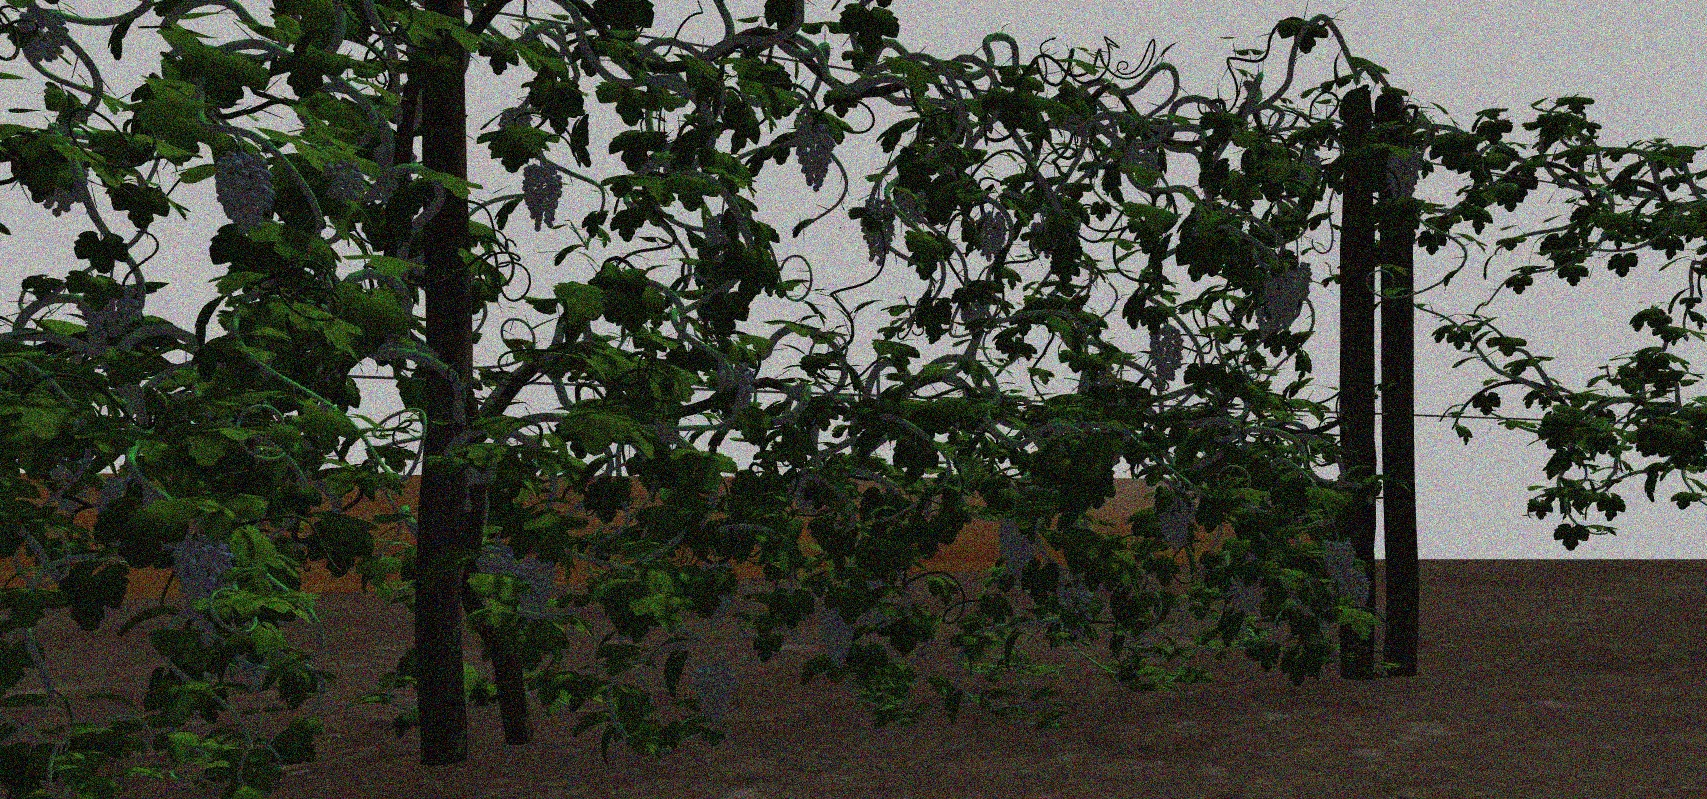grape: (172, 536, 233, 646), (214, 152, 275, 235), (16, 7, 69, 63), (795, 120, 836, 190), (521, 162, 562, 232), (515, 557, 557, 623), (693, 657, 736, 721), (818, 604, 855, 669), (859, 199, 895, 266), (998, 520, 1032, 583), (1266, 269, 1301, 330), (1150, 324, 1186, 381), (716, 362, 756, 413), (1385, 147, 1422, 199), (1157, 497, 1191, 552), (105, 287, 139, 337), (476, 541, 516, 580), (322, 160, 364, 198), (977, 211, 1006, 260), (1324, 539, 1355, 579), (1227, 580, 1258, 618), (896, 186, 926, 224), (1338, 574, 1371, 607), (1059, 583, 1091, 614)
